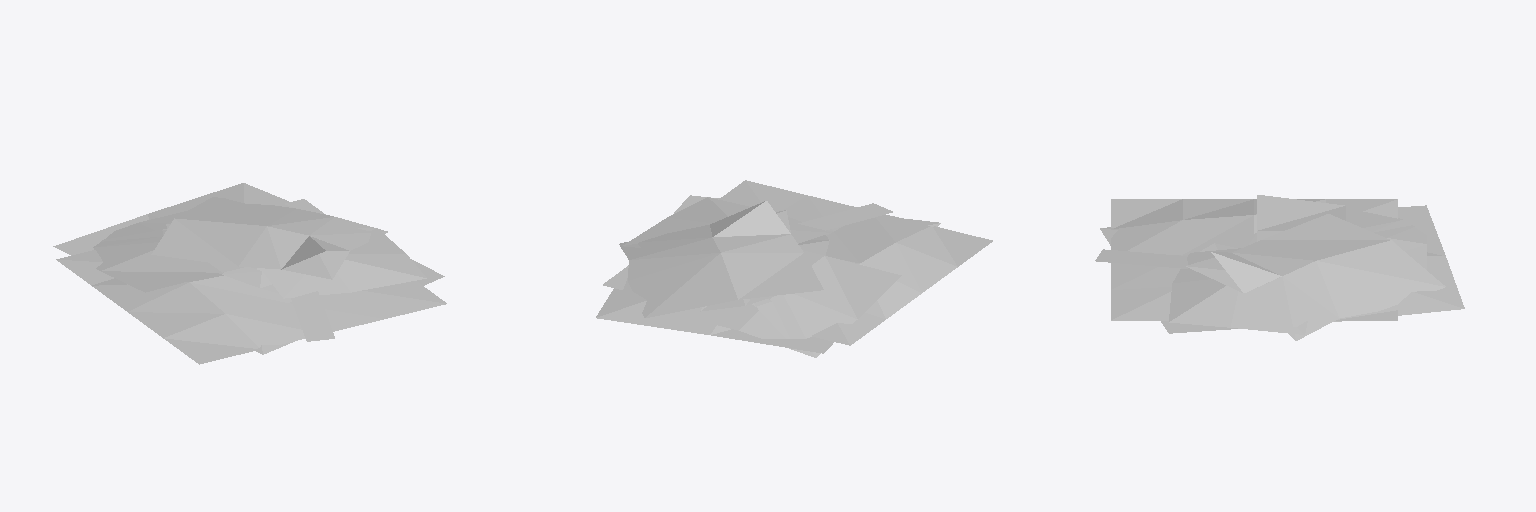
The model's file is borean_magnataurbed_01.obj.
The picture shows the model from 3 angles: view 1: azimuth 30°, elevation 25°; view 2: azimuth 150°, elevation 25°; view 3: azimuth 270°, elevation 25°; orthographic projection.
Parts seen in each view (by area): view 1: borean_magnataurbed_01; view 2: borean_magnataurbed_01; view 3: borean_magnataurbed_01.
Part boxes in pixels (x1,y1,x2,y2): borean_magnataurbed_01: (53, 183, 446, 364); borean_magnataurbed_01: (596, 180, 992, 357); borean_magnataurbed_01: (1095, 195, 1464, 340).
Size of the model in its own units: 6.32 by 0.9221 by 7.16.